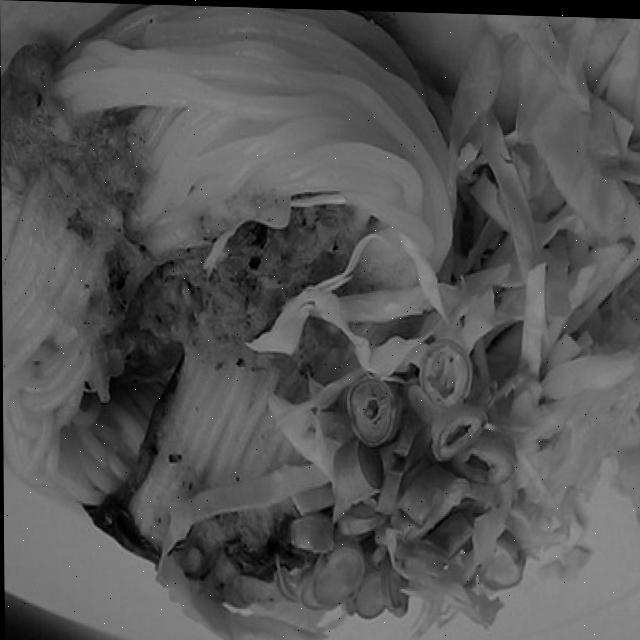面条主食: (0, 0, 634, 640)
